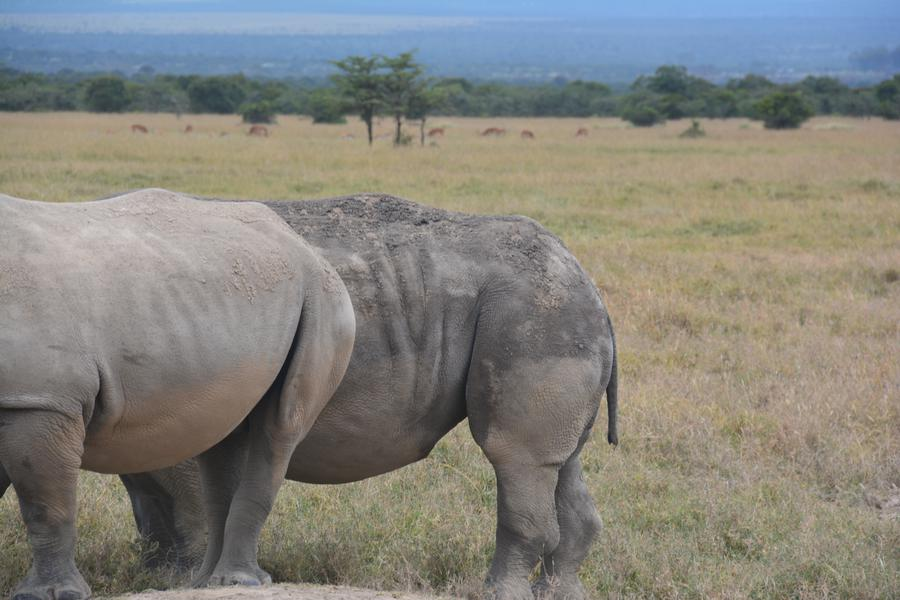rhino: (13, 204, 335, 508), (352, 210, 594, 495)
